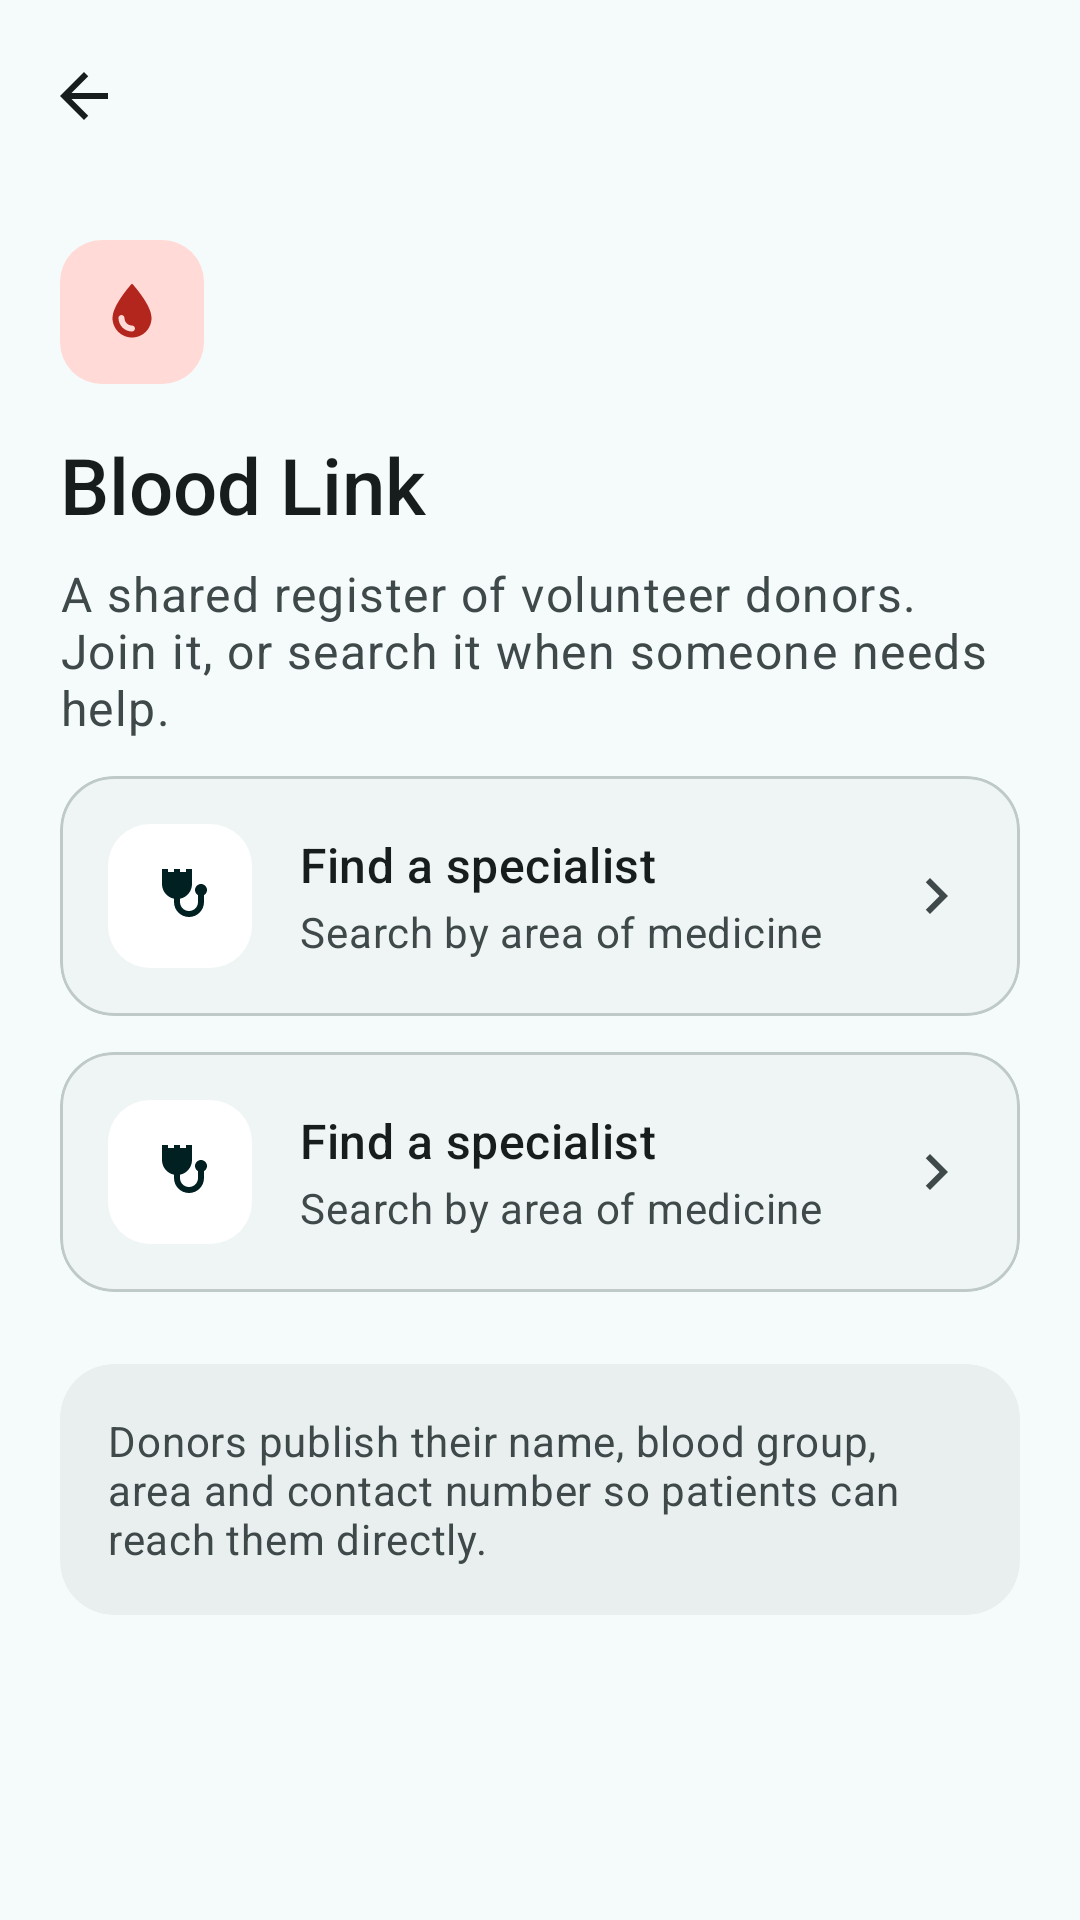

Named icons in this screenshot (1080x1920) and their centers, [x,y]:
blood drop: [132,312]
chevron right: [937,896], [937,1172]
